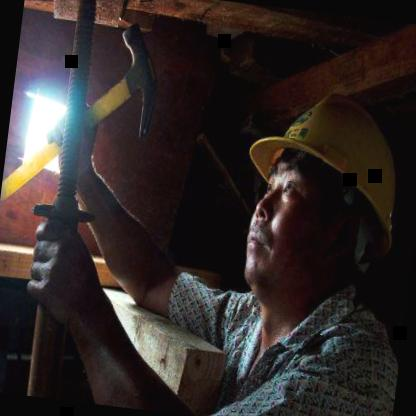helmet: (200, 59, 416, 344)
